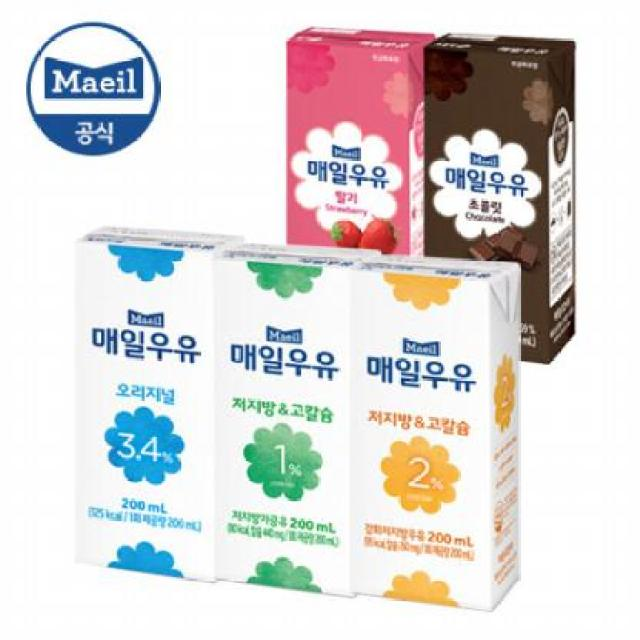tetra: (48, 209, 240, 593), (205, 225, 387, 604), (351, 238, 529, 617)
